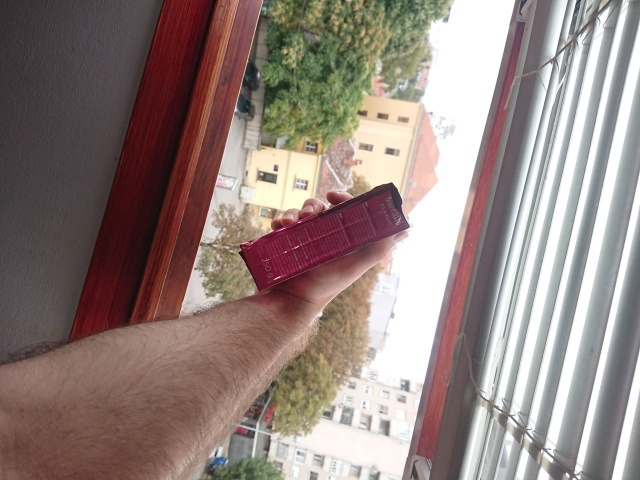Barcaffe Classic Original 225g: (236, 179, 413, 295)
